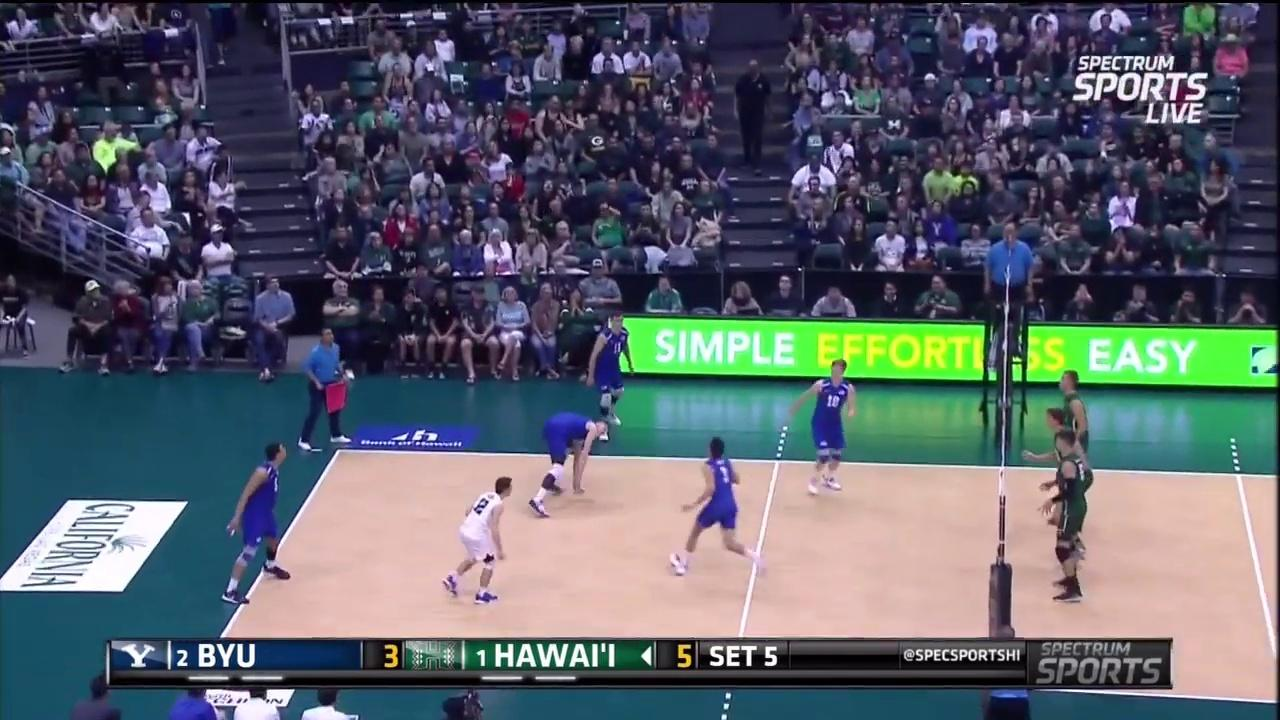player: (1035, 429, 1100, 613), (222, 446, 291, 604), (672, 440, 754, 572), (1030, 404, 1098, 553), (444, 479, 511, 600), (530, 409, 608, 512), (582, 311, 644, 434), (803, 362, 854, 494), (1047, 369, 1094, 508)
refree: (296, 325, 361, 452), (982, 218, 1039, 362), (979, 623, 1037, 719)
